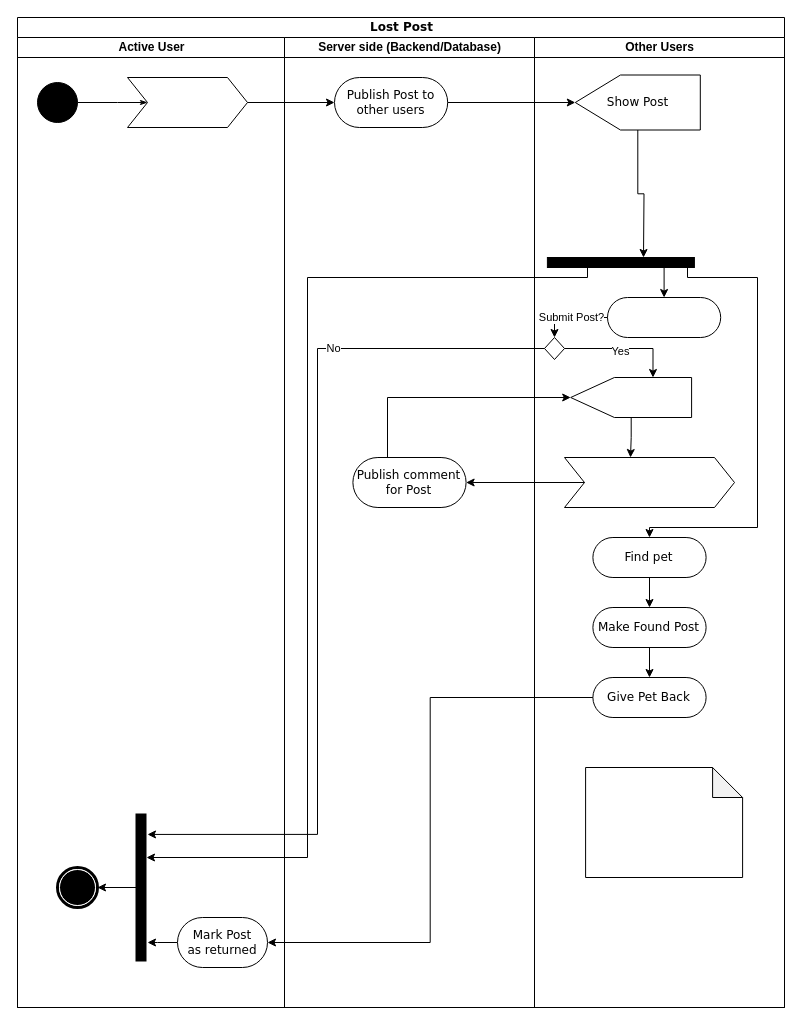
Image size: 802x1025. Some labels were removed from this diagram. Each missing label, with the centre of its shape:
"Create Lost Post" belongs at [187,102].
"For found post and giving request , see Found Post activity diagram" belongs at [664,822].
"Go to post comments" belongs at [663,317].
"Make Comment" belongs at [649,482].
"See comments" belongs at [631,397].
